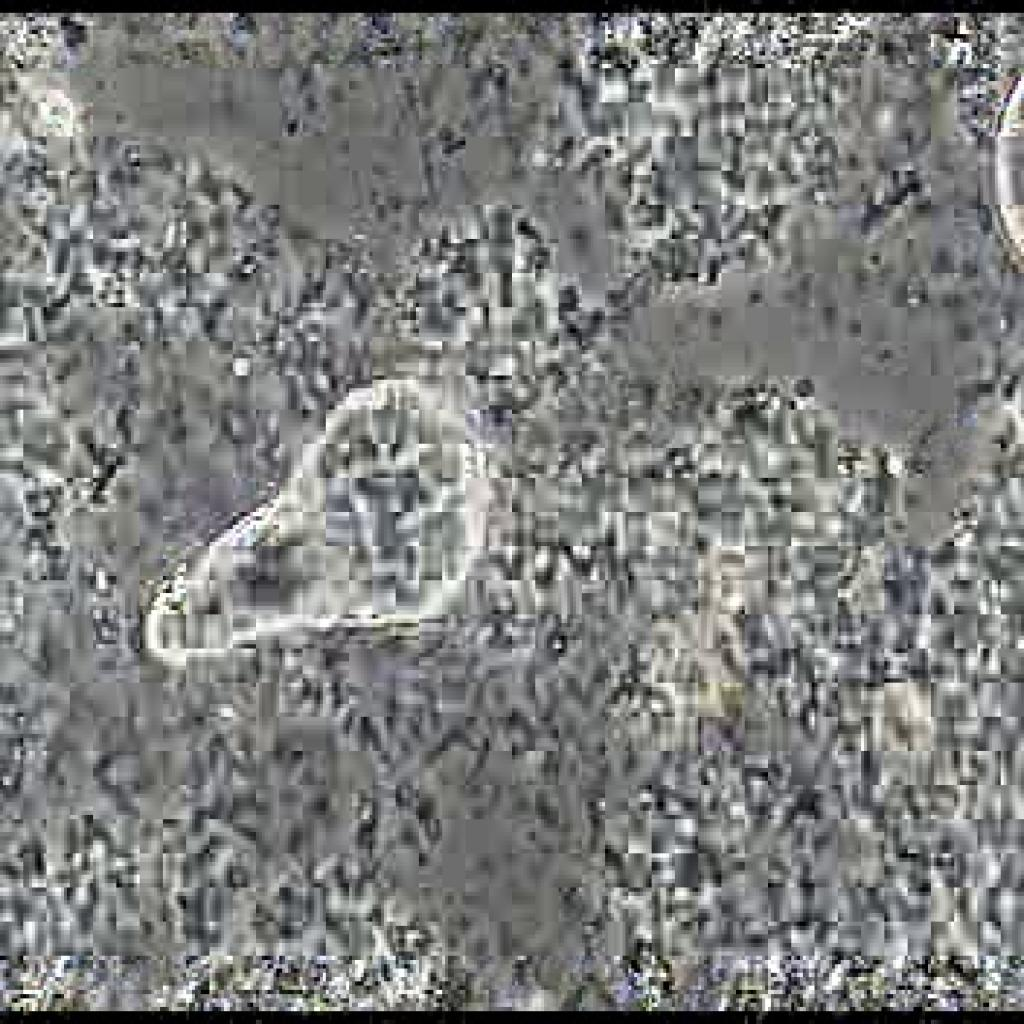Rotatoria: (125, 369, 483, 702)
